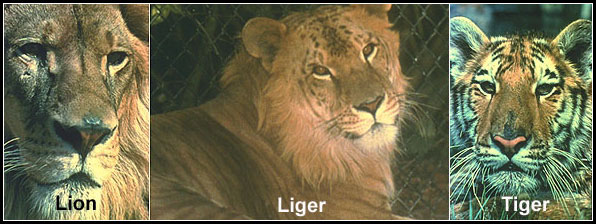Tigre: (455, 10, 592, 198)
